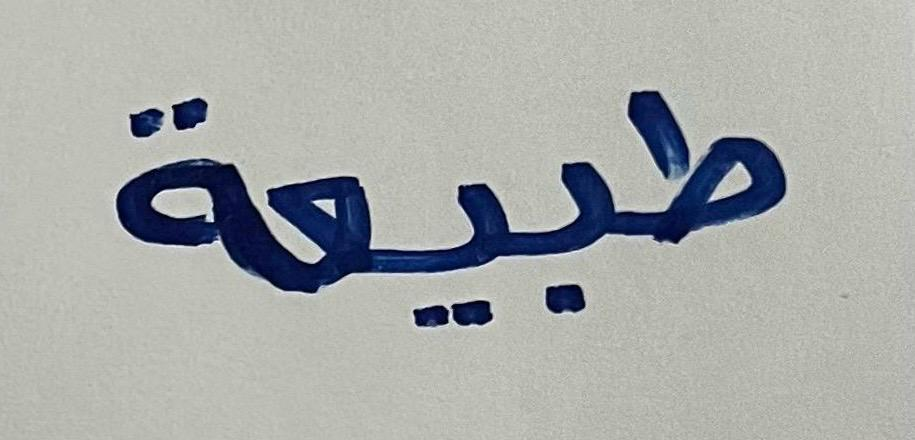ain: (267, 142, 380, 333)
beh: (519, 97, 617, 340)
tah: (619, 43, 825, 289)
teh_marbota: (95, 56, 264, 299)
yeh: (383, 120, 513, 365)
